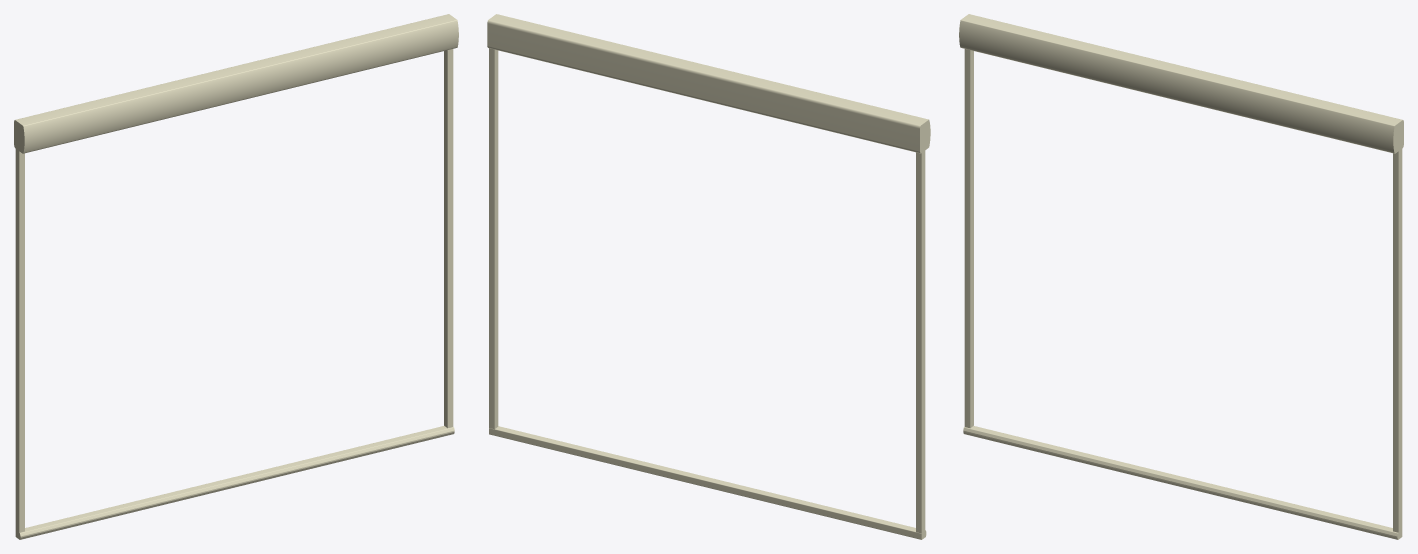
The model's file is 1013_zipper automatic curtain system 3.glb.
3 renders of one model, left to right at view 1: azimuth 30°, elevation 25°; view 2: azimuth 150°, elevation 25°; view 3: azimuth 330°, elevation 25°, orthographic.
Visible parts, largest first — view 1: Main Profile_n3d2, Lower Puller Profil_n3d2, Side Channel_n3d4, Side Channel_n3d3; view 2: Main Profile_n3d2, Lower Puller Profil_n3d2, Side Channel_n3d4, Side Channel_n3d3; view 3: Main Profile_n3d2, Lower Puller Profil_n3d2, Side Channel_n3d3, Side Channel_n3d4.
Boxes of the visible parts, x1,y1,x2,y2 form: Main Profile_n3d2: (14, 14, 458, 153); Lower Puller Profil_n3d2: (15, 426, 454, 539); Side Channel_n3d4: (15, 149, 24, 532); Side Channel_n3d3: (444, 49, 453, 428); Main Profile_n3d2: (487, 14, 930, 153); Lower Puller Profil_n3d2: (489, 426, 926, 539); Side Channel_n3d4: (916, 151, 925, 533); Side Channel_n3d3: (489, 48, 498, 429); Main Profile_n3d2: (959, 14, 1403, 153); Lower Puller Profil_n3d2: (963, 426, 1402, 539); Side Channel_n3d3: (1393, 149, 1402, 532); Side Channel_n3d4: (964, 49, 973, 428).
Bounding box in the file's own units: 2.4 × 2.2 × 0.101.
